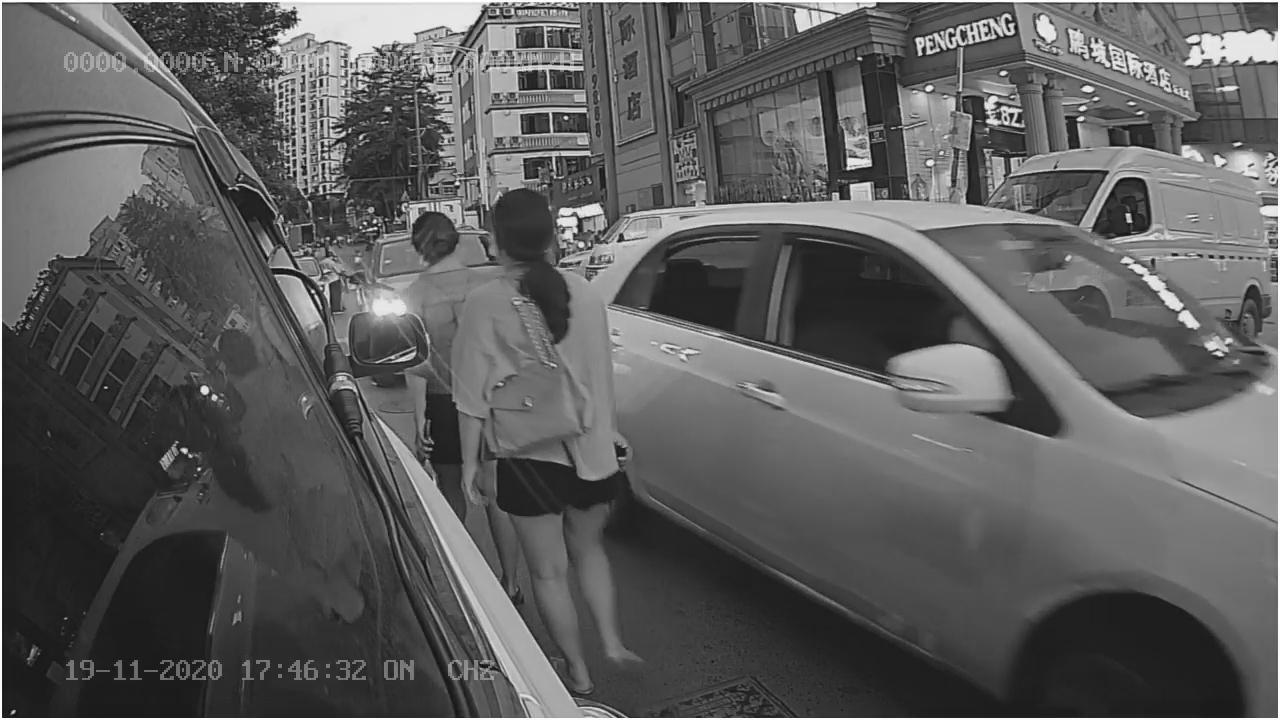person: (450, 197, 624, 527)
